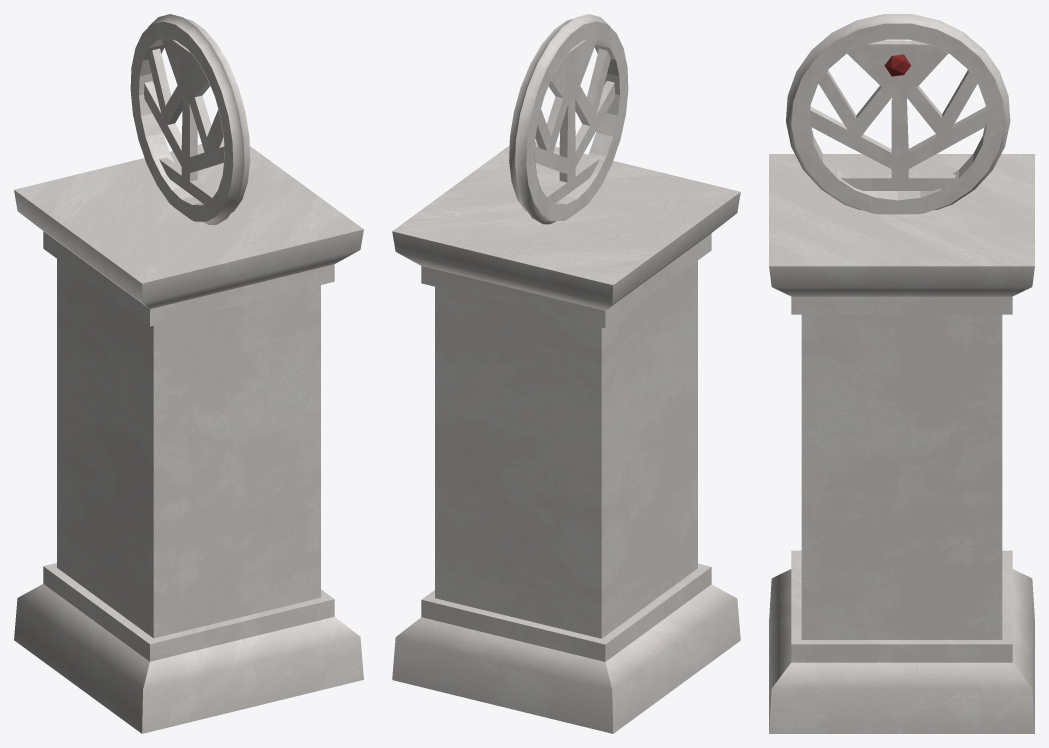
Rendered from estatua.fbx.
3 renders of one model, left to right at view 1: azimuth 30°, elevation 25°; view 2: azimuth 150°, elevation 25°; view 3: azimuth 270°, elevation 25°, orthographic. The views are drawn at different scales.
Parts seen in each view (by area): view 1: pCube1, brazaoppedestal2:brazaopchave1:pCylinder1, brazaoppedestal2:brazaopchave1:pCube1; view 2: pCube1, brazaoppedestal2:brazaopchave1:pCylinder1, brazaoppedestal2:brazaopchave1:pCube1; view 3: pCube1, brazaoppedestal2:brazaopchave1:pCylinder1, brazaoppedestal2:brazaopchave1:pCube1.
Part boxes in pixels (left/top/right/bottom): pCube1: left=14, top=138, right=363, bottom=733; brazaoppedestal2:brazaopchave1:pCylinder1: left=130, top=14, right=250, bottom=224; brazaoppedestal2:brazaopchave1:pCube1: left=144, top=38, right=224, bottom=203; pCube1: left=392, top=142, right=740, bottom=733; brazaoppedestal2:brazaopchave1:pCylinder1: left=509, top=14, right=628, bottom=224; brazaoppedestal2:brazaopchave1:pCube1: left=535, top=38, right=614, bottom=203; pCube1: left=769, top=154, right=1034, bottom=733; brazaoppedestal2:brazaopchave1:pCylinder1: left=786, top=14, right=1010, bottom=214; brazaoppedestal2:brazaopchave1:pCube1: left=809, top=40, right=986, bottom=190.
Size of the model in its own units: 1.33 by 3.65 by 1.33.
